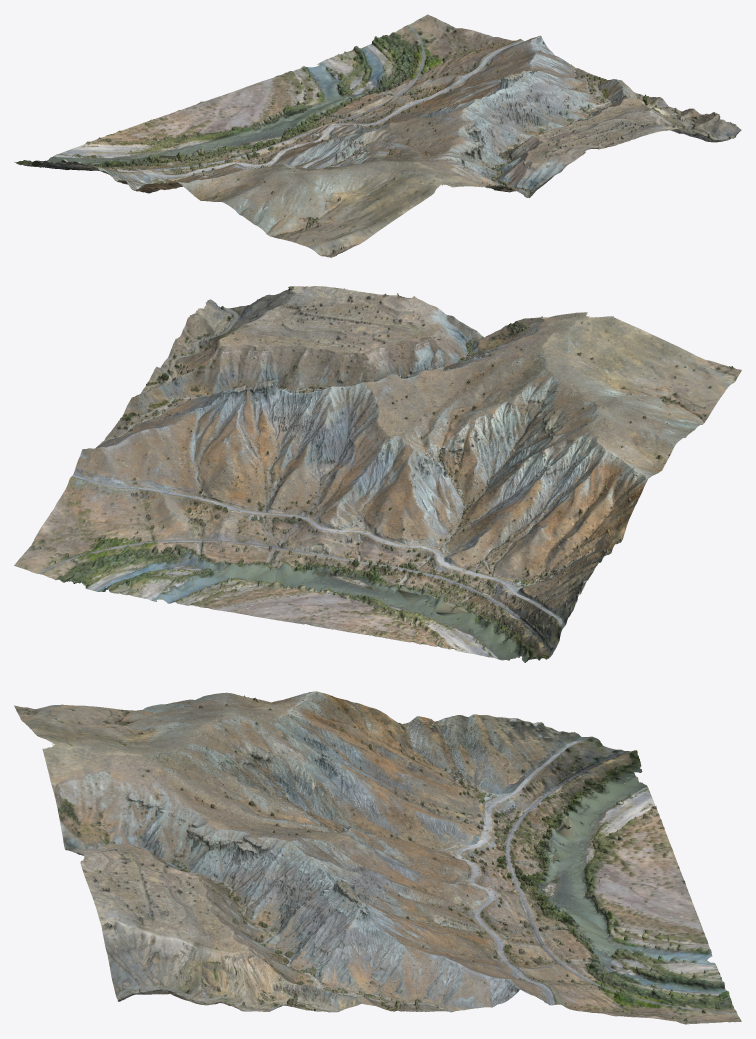
Rendered from medium.glb.
The picture shows the model from 3 angles, top to bottom: view 1: azimuth 30°, elevation 25°; view 2: azimuth 150°, elevation 25°; view 3: azimuth 270°, elevation 25°; orthographic projection. The views are drawn at different scales.
Parts seen in each view (by area): view 1: kemah; view 2: kemah; view 3: kemah.
Part boxes in pixels (<box>): kemah: <box>14,14,741,257</box>; kemah: <box>14,286,741,662</box>; kemah: <box>14,691,741,1024</box>.
Bounding box in the file's own units: 999 × 211 × 964.
Materials: 4 (4 with a texture image).
